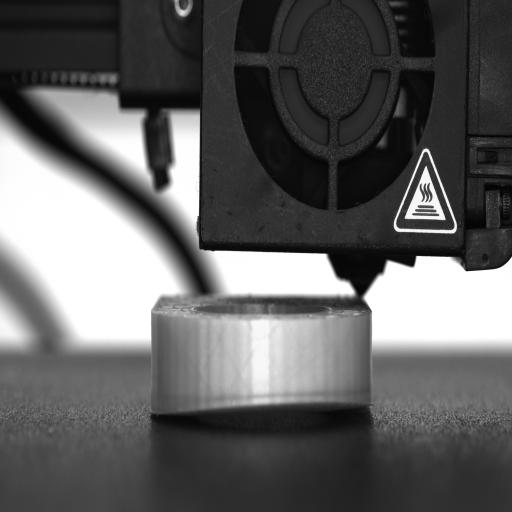warp: (156, 391, 362, 417)
